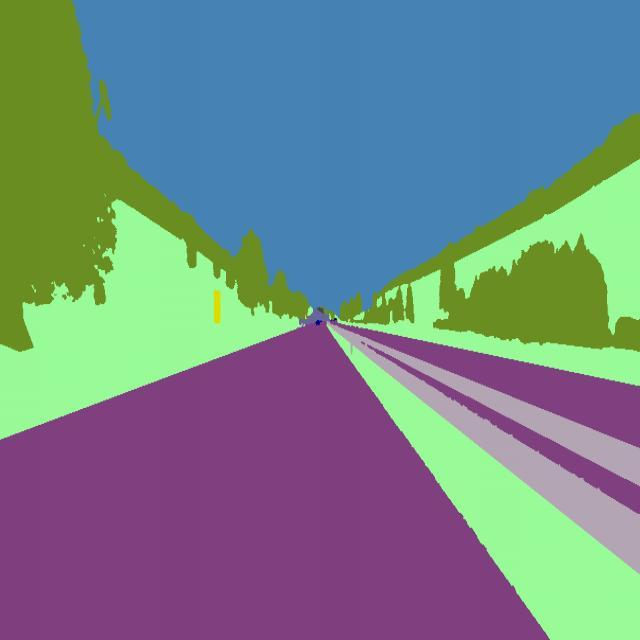safe: (316, 316, 321, 329)
